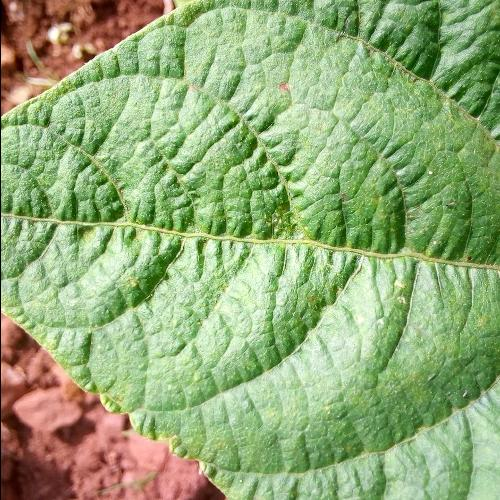mozaik: (209, 22, 479, 439), (79, 98, 184, 344)
